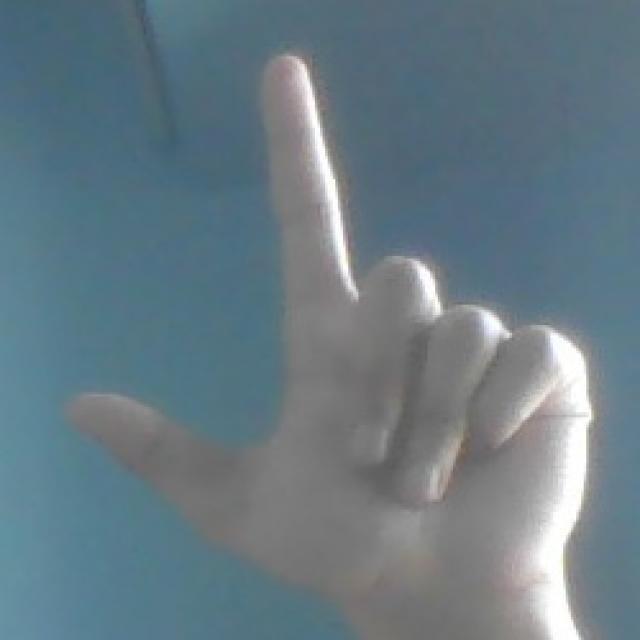Alphabet-L: (64, 45, 600, 640)
